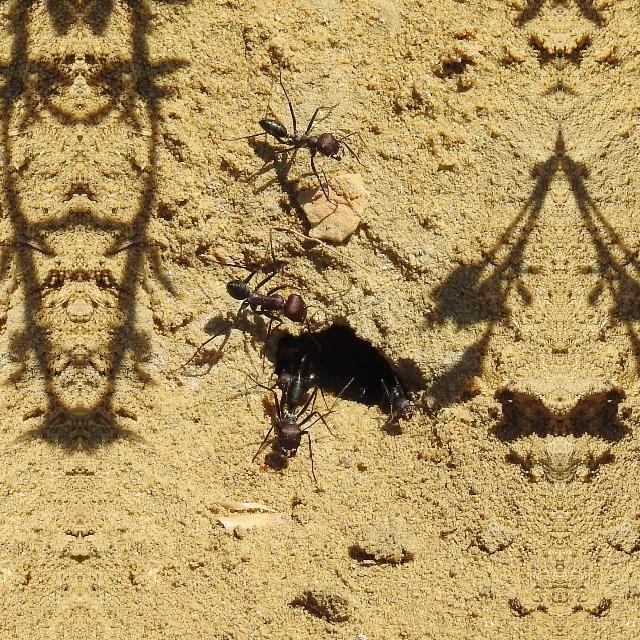Cataglyphis: (251, 92, 355, 190), (214, 252, 314, 340), (257, 358, 327, 474), (366, 367, 438, 437)
